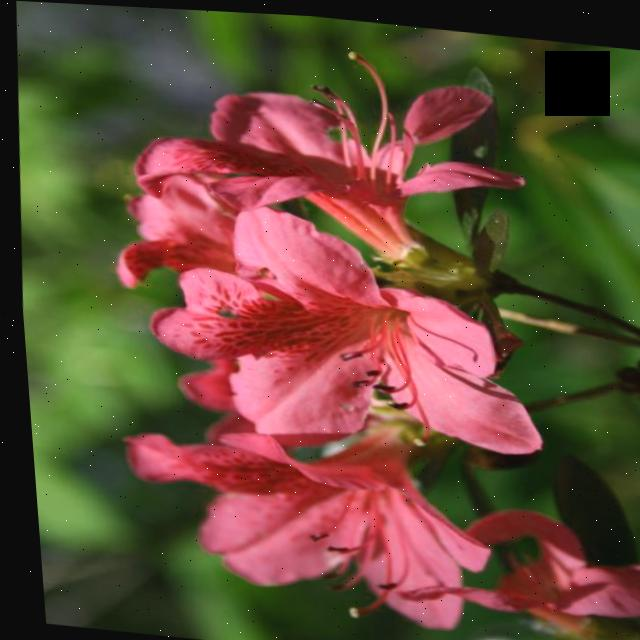azalea: (152, 192, 520, 452), (93, 386, 487, 627), (95, 22, 449, 249)
